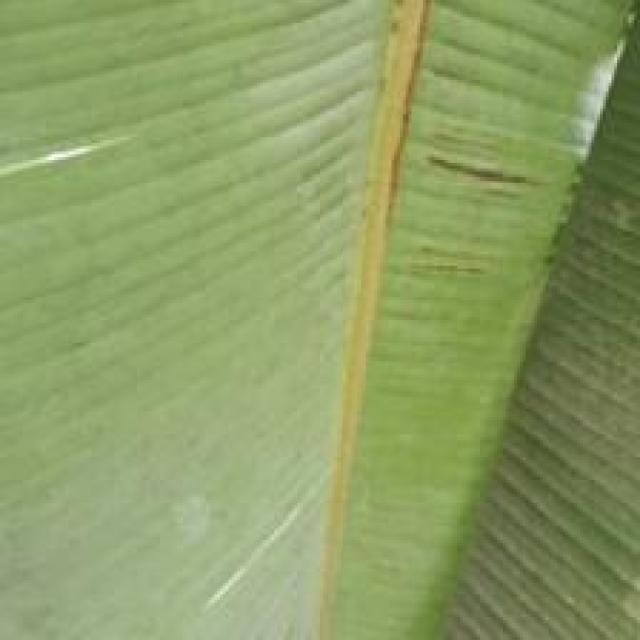Black_leaf_spot: (0, 0, 623, 631)
